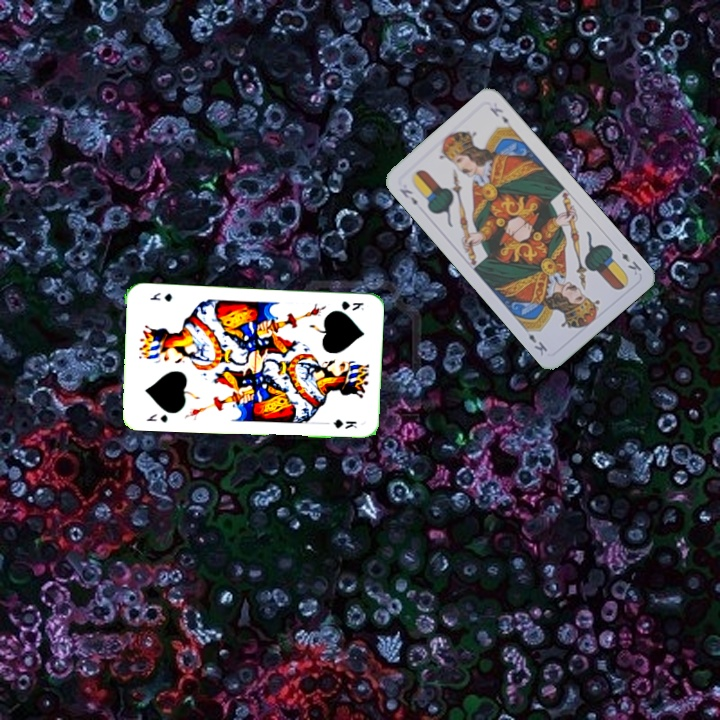EK: (617, 249, 644, 278), (395, 184, 420, 208)
GK: (338, 297, 366, 313), (143, 410, 170, 425)
